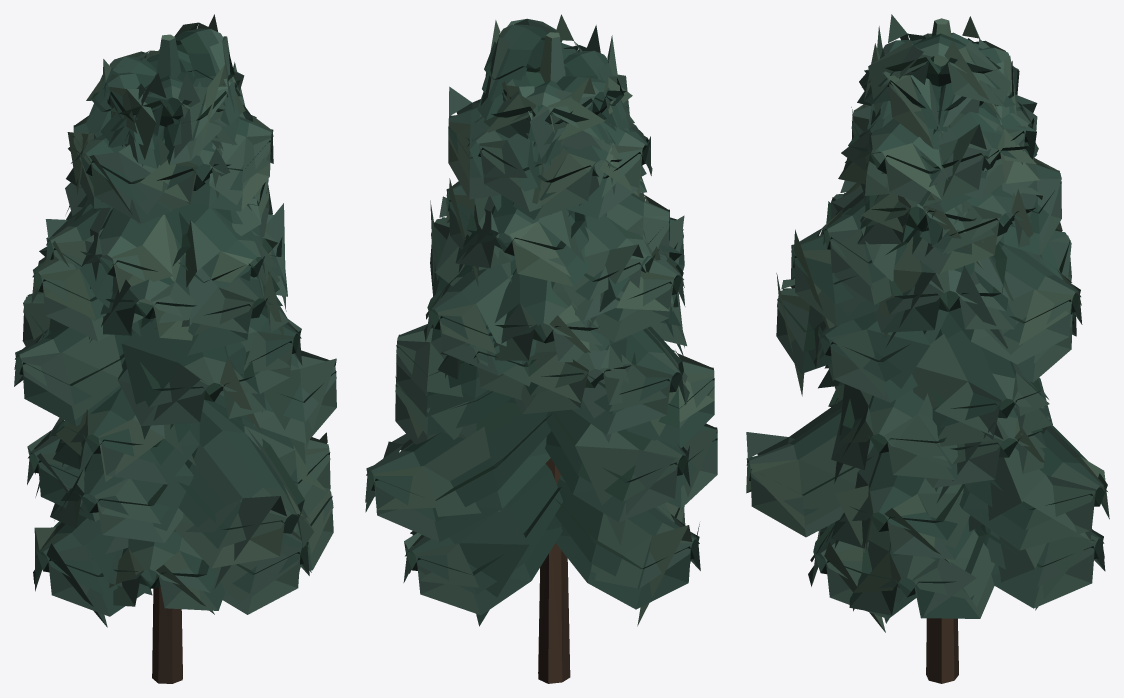
File: sapling-pine.glb
3 views of the same model, side by side, from view 1: azimuth 30°, elevation 25°; view 2: azimuth 150°, elevation 25°; view 3: azimuth 270°, elevation 25° (orthographic). The views are drawn at different scales.
Parts seen in each view (by area): view 1: sapling-pine-needles, sapling-pine; view 2: sapling-pine-needles, sapling-pine; view 3: sapling-pine-needles, sapling-pine.
Part boxes in pixels (x1,y1,x2,y2): sapling-pine-needles: (14, 14, 336, 627); sapling-pine: (152, 34, 182, 683); sapling-pine-needles: (365, 14, 717, 626); sapling-pine: (538, 32, 570, 683); sapling-pine-needles: (746, 14, 1109, 632); sapling-pine: (926, 18, 958, 683).
Size of the model in its own units: 0.9537 by 2.07 by 1.03.
